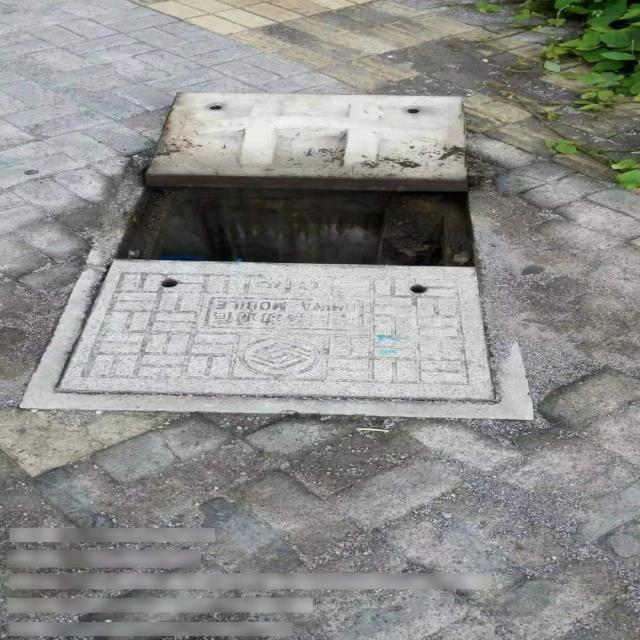Lose: (19, 89, 534, 424)
